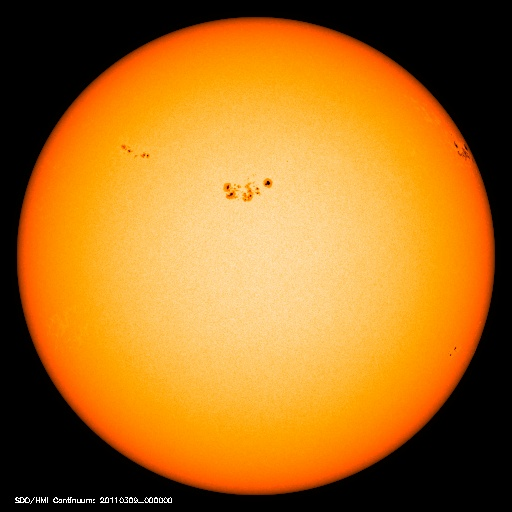sunspot: (217, 172, 278, 205), (111, 135, 161, 167), (442, 134, 481, 168), (440, 337, 470, 366)
